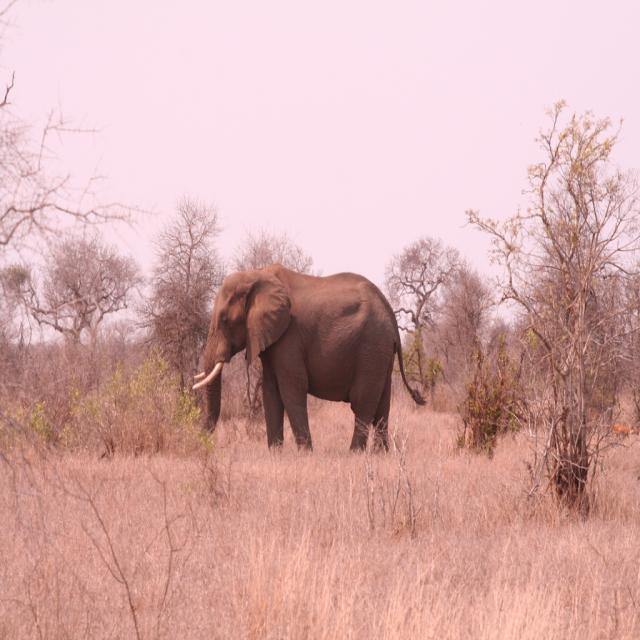Elephant: (191, 262, 427, 456)
